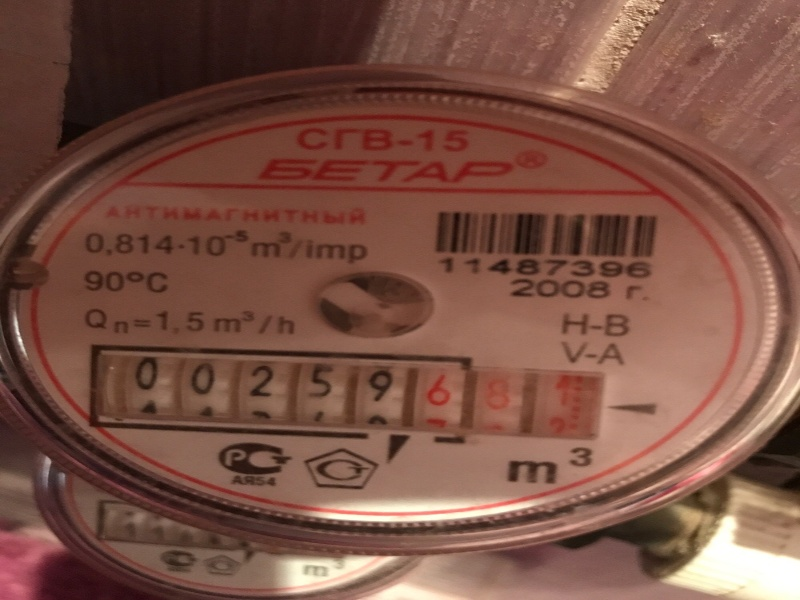meter: (81, 356, 605, 445)
